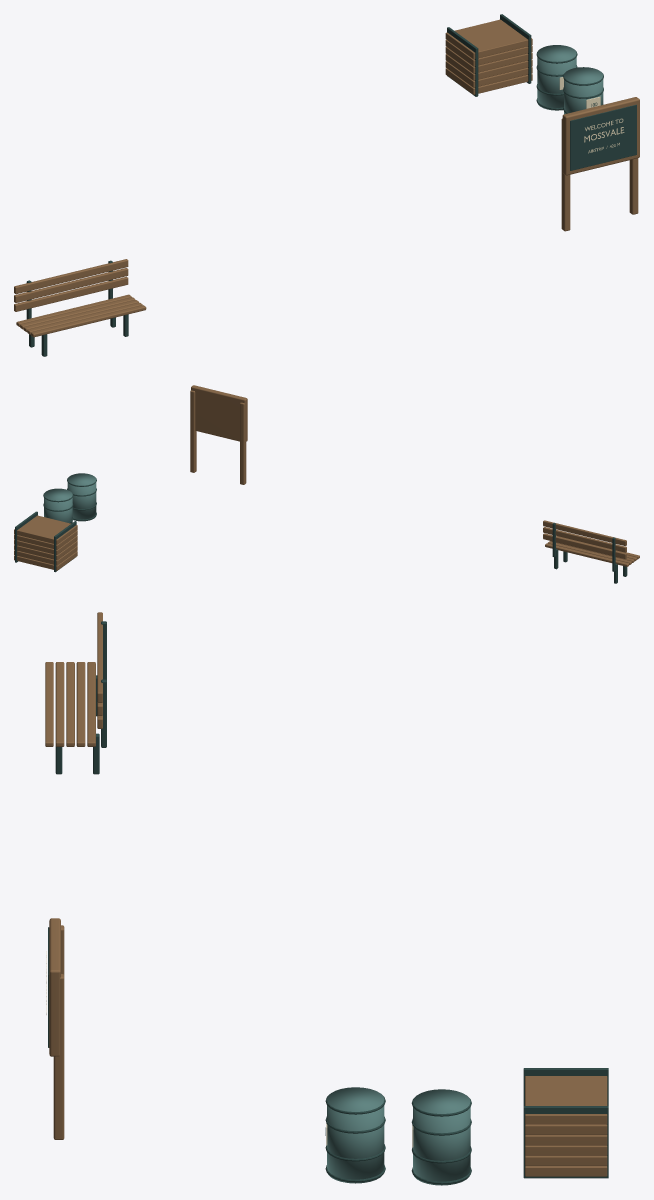
File: airfield_props.glb
The picture shows the model from 3 angles, top to bottom: view 1: azimuth 30°, elevation 25°; view 2: azimuth 150°, elevation 25°; view 3: azimuth 270°, elevation 25°; orthographic projection. The views are drawn at different scales.
Parts seen in each view (by area): view 1: Noticeboard face, Cargo box plank.005, Service drum.001, Noticeboard backing, Service drum, Bench back slat, Bench back slat.001, Bench back slat.002, Bench seat slat, Noticeboard upright, Cargo box plank, Cargo box plank.001 (+4 smaller); view 2: Noticeboard backing, Service drum, Cargo box plank.005, Service drum.001, Bench back slat.002, Bench back slat.001, Bench back slat, Noticeboard upright, Noticeboard upright.001, Bench seat slat.004, Cargo box plank, Cargo box plank.004 (+3 smaller); view 3: Service drum.001, Service drum, Cargo box plank.005, Noticeboard backing, Noticeboard upright.001, Crate band.001, Cargo box plank, Cargo box plank.001, Cargo box plank.003, Cargo box plank.004, Cargo box plank.002, Bench seat slat.001 (+2 smaller).
Boxes of the visible parts, x1,y1,x2,y2 form: Noticeboard face: (570,104,636,170); Cargo box plank.005: (445,19,532,59); Service drum.001: (537,45,576,110); Noticeboard backing: (562,97,639,175); Service drum: (564,67,603,114); Bench back slat: (14,276,128,311); Bench back slat.001: (14,268,128,302); Bench back slat.002: (14,259,128,294); Bench seat slat: (31,305,146,337); Noticeboard upright: (561,118,570,231); Cargo box plank: (445,68,532,94); Cargo box plank.001: (445,61,532,87); Noticeboard backing: (191,385,247,442); Service drum: (67,473,96,521); Cargo box plank.005: (14,515,77,544); Service drum.001: (44,488,72,523); Bench back slat.002: (543,520,626,545); Bench back slat.001: (543,527,626,552); Bench back slat: (543,533,626,558); Noticeboard upright: (240,402,246,484); Noticeboard upright.001: (190,390,196,472); Bench seat slat.004: (545,543,629,566); Cargo box plank: (14,551,77,570); Cargo box plank.004: (14,530,77,549); Service drum.001: (413,1089,470,1185); Service drum: (327,1087,384,1183); Cargo box plank.005: (525,1076,607,1124); Noticeboard backing: (49,918,60,1056); Noticeboard upright.001: (53,973,64,1139); Crate band.001: (523,1106,608,1178); Cargo box plank: (525,1166,607,1176); Cargo box plank.001: (525,1155,607,1165); Cargo box plank.003: (525,1135,607,1145); Cargo box plank.004: (525,1124,607,1134); Cargo box plank.002: (525,1145,607,1155); Bench seat slat.001: (55,662,64,746).
Bounding box in the file's own units: 11.97 × 1.96 × 5.89.
